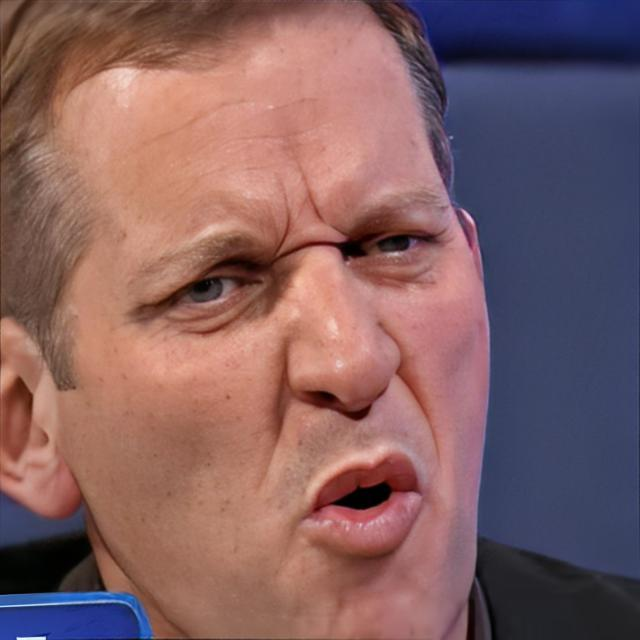disgust: (54, 0, 494, 640)
